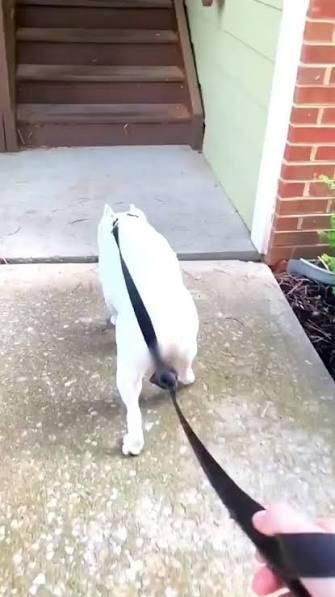adult_dog: (97, 202, 199, 456)
